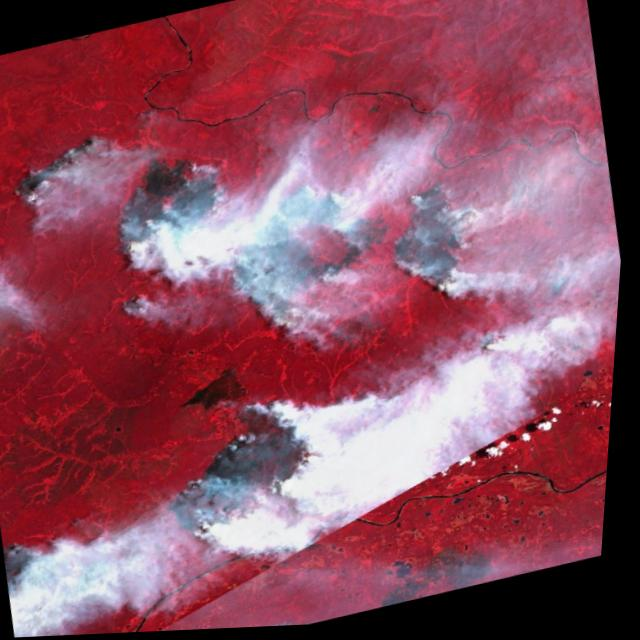fire: (148, 389, 347, 564), (227, 180, 409, 352), (103, 150, 242, 299), (382, 184, 489, 311), (0, 133, 111, 212), (473, 330, 524, 372), (447, 0, 536, 14)
